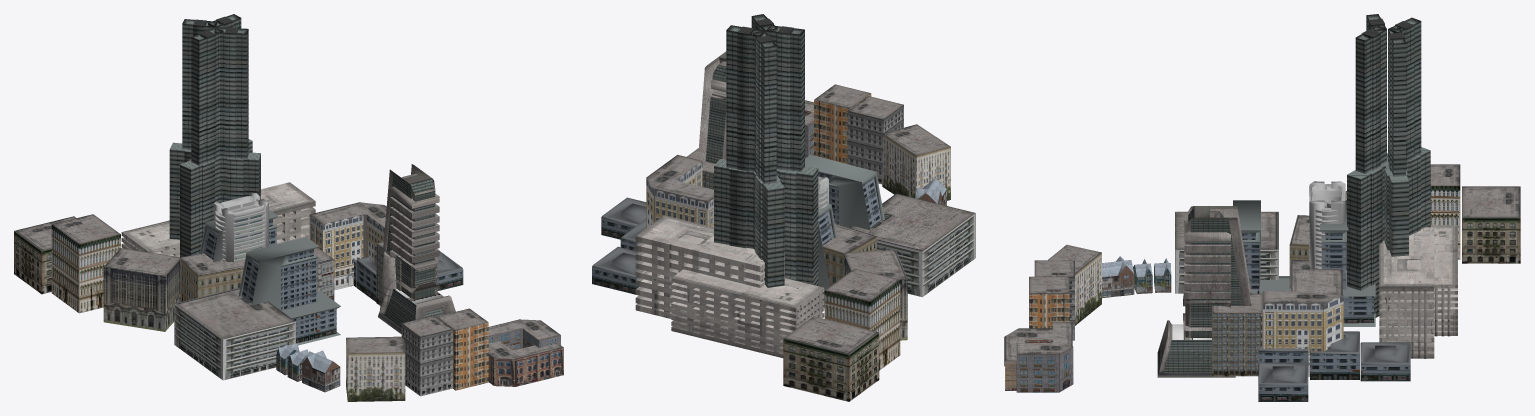
Rendered from city.obj.
3 views of the same model, side by side, from view 1: azimuth 30°, elevation 25°; view 2: azimuth 150°, elevation 25°; view 3: azimuth 270°, elevation 25° (orthographic). The views are drawn at different scales.
Parts seen in each view (by area): view 1: home1, home2, build1, polySurface892, build3, build2, build4, polySurface893; view 2: build1, home2, home1, build2, build3, polySurface893, polySurface892; view 3: build1, home2, home1, polySurface892, build2, polySurface893, build3, build4.
Part boxes in pixels (x1=…): home1: x1=174, y1=287, x2=563, y2=401; home2: x1=14, y1=202, x2=437, y2=331; build1: x1=169, y1=14, x2=260, y2=257; polySurface892: x1=378, y1=164, x2=455, y2=334; build3: x1=200, y1=209, x2=340, y2=345; build2: x1=121, y1=182, x2=315, y2=257; build4: x1=213, y1=192, x2=268, y2=261; polySurface893: x1=354, y1=251, x2=463, y2=301; build1: x1=714, y1=14, x2=818, y2=287; home2: x1=646, y1=148, x2=907, y2=401; home1: x1=805, y1=84, x2=975, y2=297; build2: x1=635, y1=215, x2=824, y2=357; build3: x1=805, y1=154, x2=884, y2=307; polySurface893: x1=592, y1=197, x2=646, y2=294; polySurface892: x1=698, y1=51, x2=726, y2=163; build1: x1=1347, y1=14, x2=1430, y2=317; home2: x1=1212, y1=164, x2=1520, y2=376; home1: x1=1004, y1=211, x2=1278, y2=392; polySurface892: x1=1157, y1=206, x2=1251, y2=377; build2: x1=1379, y1=225, x2=1457, y2=358; polySurface893: x1=1258, y1=331, x2=1410, y2=401; build3: x1=1233, y1=200, x2=1375, y2=326; build4: x1=1309, y1=181, x2=1345, y2=269.
Bounding box in the file's own units: 821 × 633 × 1058.
Materials: 2 (2 with a texture image).
